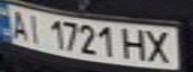1: (42, 17, 66, 50), (97, 24, 118, 58)
2: (78, 21, 96, 56)
7: (57, 19, 81, 52)
A: (3, 7, 33, 40)
H: (118, 25, 151, 62)
I: (21, 12, 48, 44)
X: (142, 28, 178, 65)
